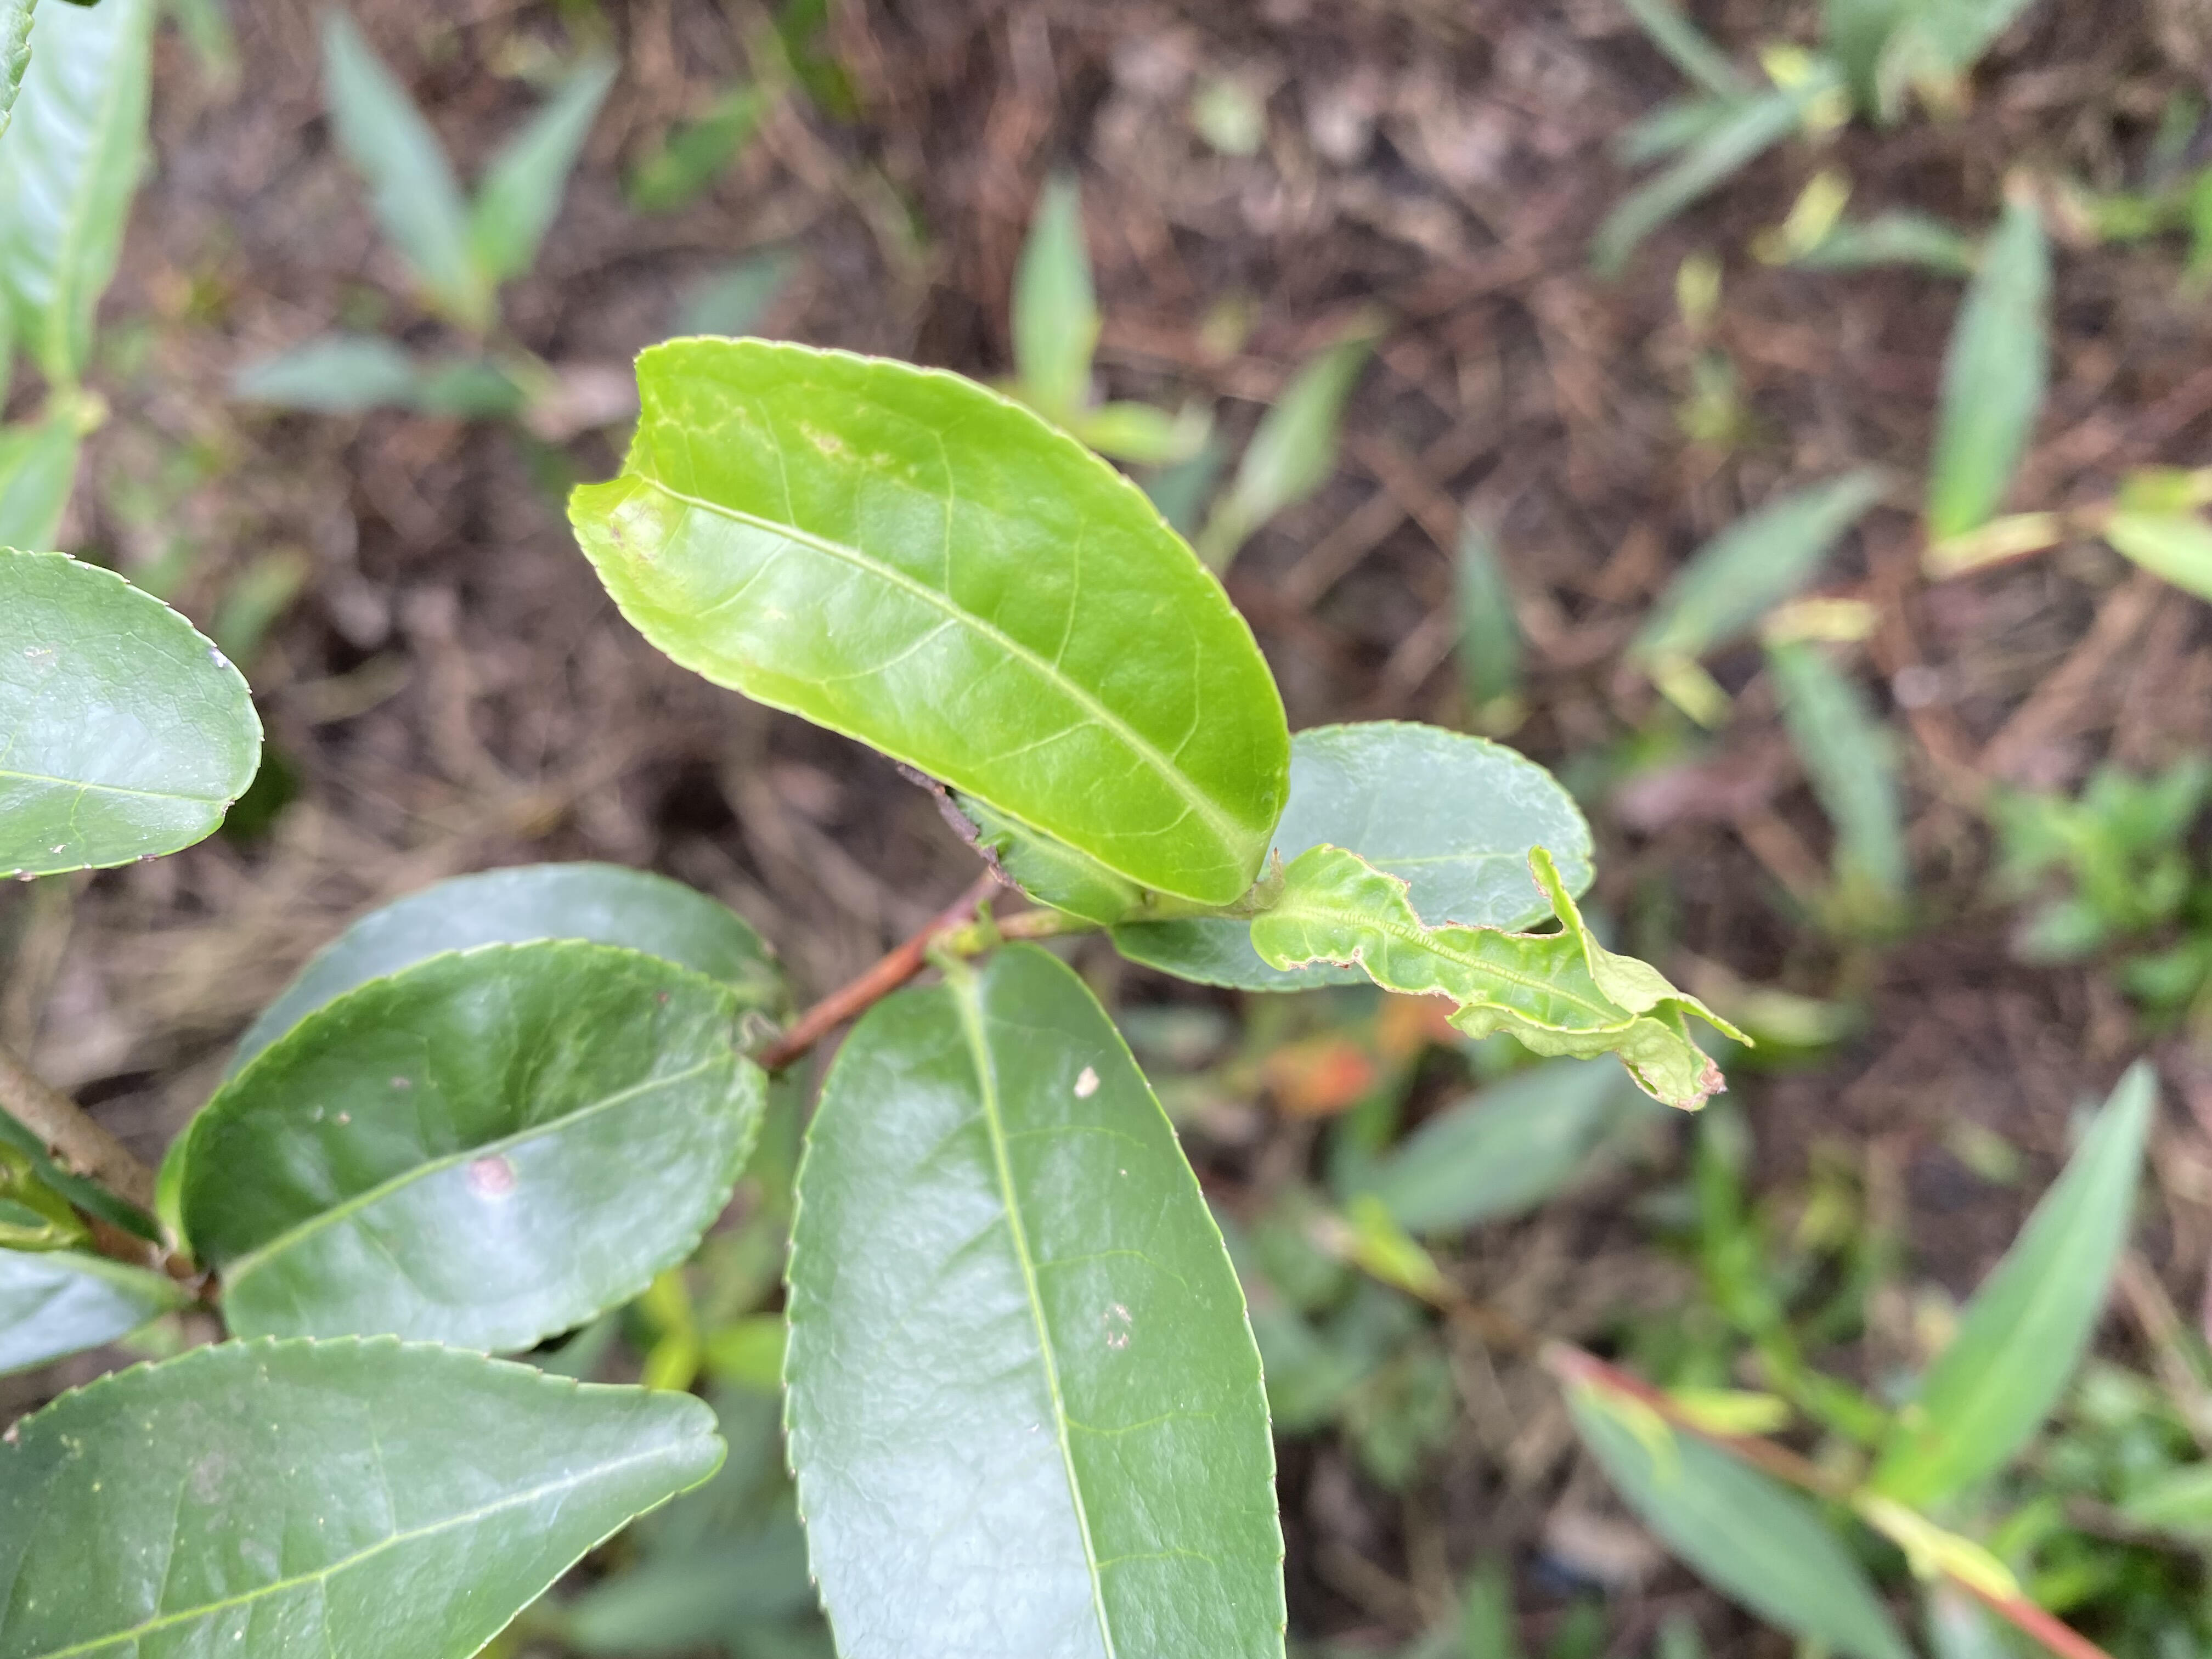chihuo_high: (1249, 842, 1756, 1114)
chihuo_low: (564, 331, 1292, 910)
tanju_low: (779, 938, 1291, 1659), (174, 936, 766, 1352)
